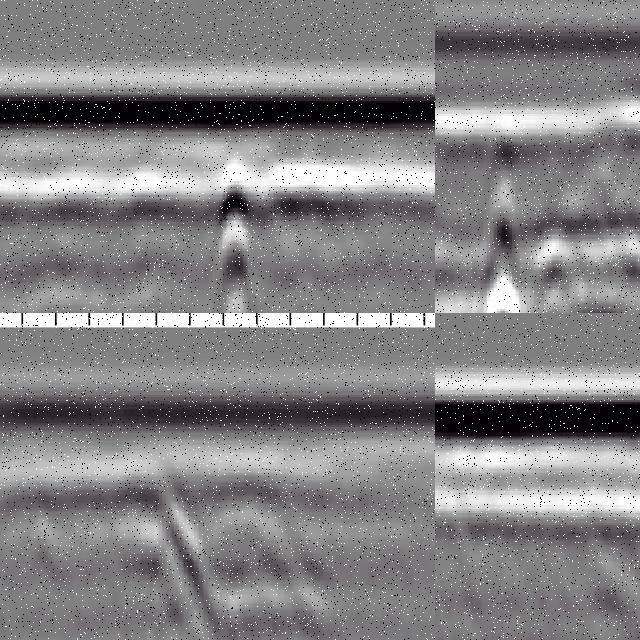crack: (124, 453, 208, 640), (481, 136, 523, 314), (215, 148, 250, 314)
